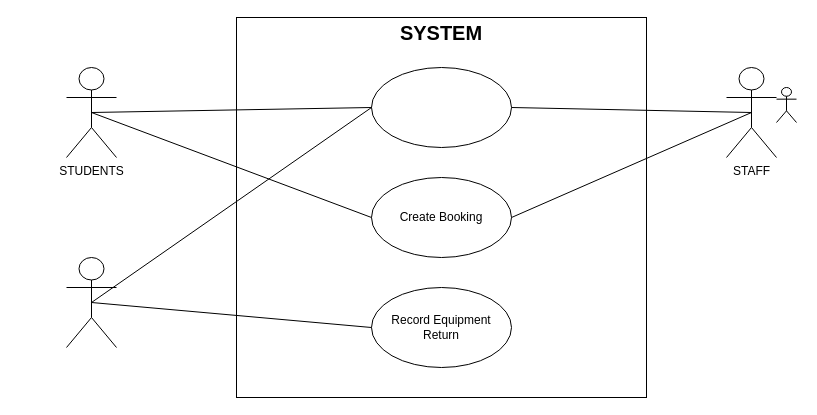
The diagram is 817 pixels wide and 415 high, and some of its shapes have lost their labels. The shapes that lost their labels are listed below. From the top down, each one's box as (x1, y1, x2, y2) in pixels, then its label:
(370, 66, 512, 148): View Equipment Availability
(776, 86, 796, 122): Actor
(66, 256, 116, 348): EQUIPMENT TECHNICIAN
